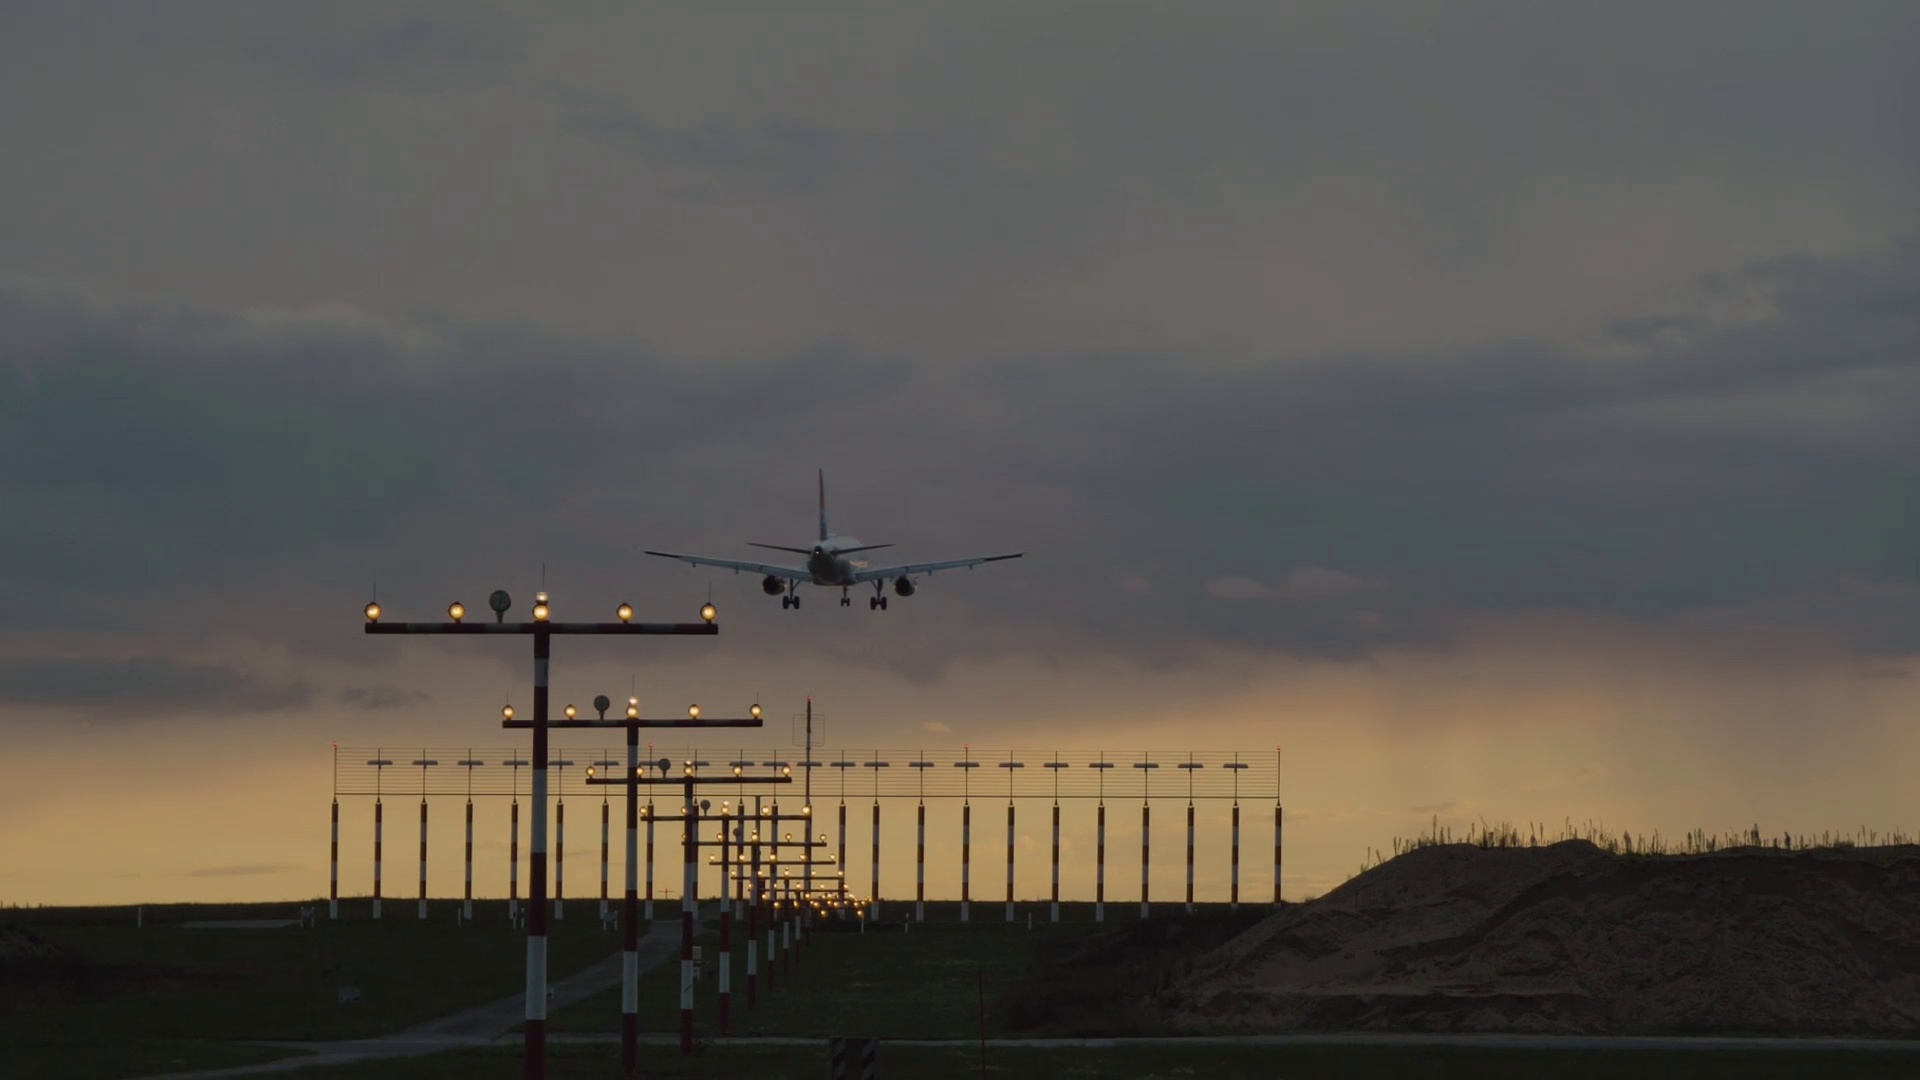plane: (642, 465, 1030, 609)
